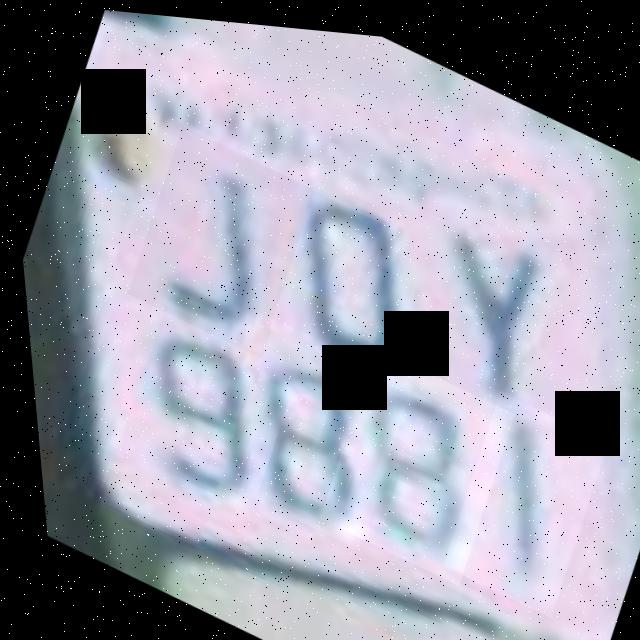1: (420, 376, 613, 613)
8: (184, 301, 417, 549), (298, 335, 520, 583)
9: (71, 280, 304, 519)
J: (110, 117, 325, 359)
O: (237, 144, 472, 394)
Y: (378, 174, 600, 410)
